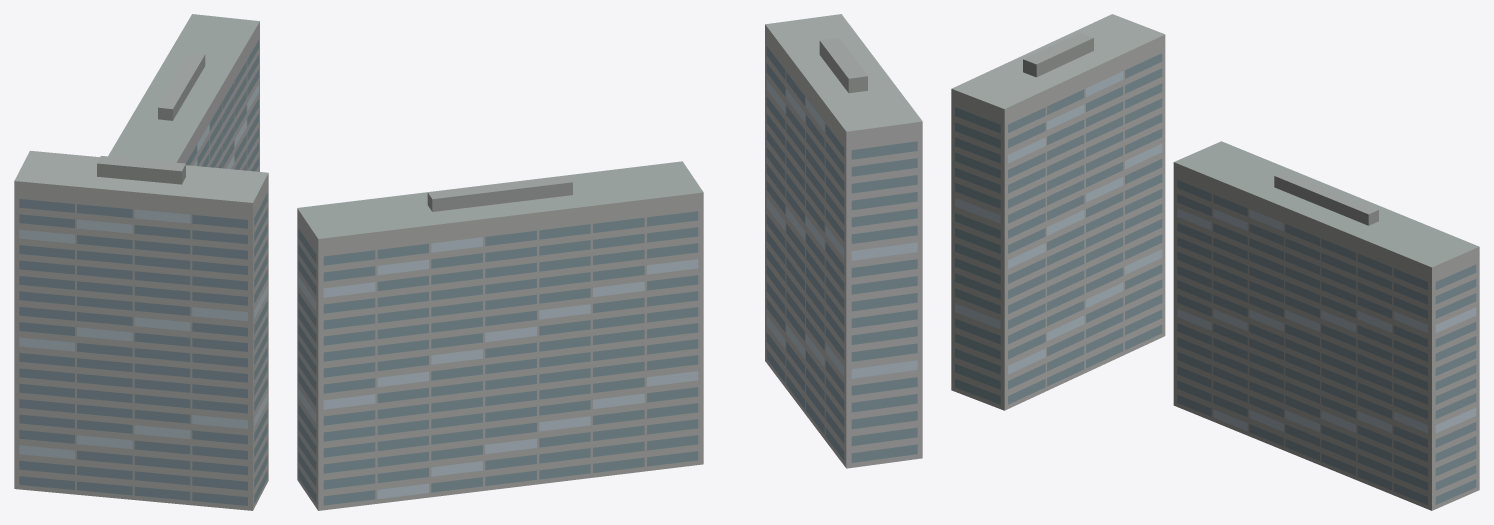
File: apt-a14320302.glb
The picture shows the model from 3 angles, left to right: view 1: azimuth 30°, elevation 25°; view 2: azimuth 150°, elevation 25°; view 3: azimuth 270°, elevation 25°; orthographic projection. The views are drawn at different scales.
Visible parts, largest first — view 1: apt-a14320302; view 2: apt-a14320302; view 3: apt-a14320302.
Part boxes in pixels (bbox=[...]): apt-a14320302: bbox=[14, 14, 268, 510]; apt-a14320302: bbox=[297, 14, 922, 510]; apt-a14320302: bbox=[951, 14, 1479, 510].
Size of the model in its own units: 77.24 by 58 by 88.23.
